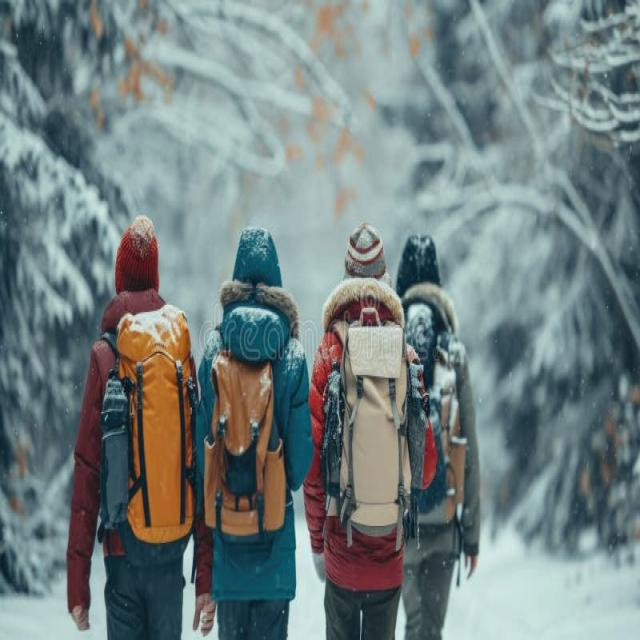backpack: (99, 305, 200, 547), (326, 309, 415, 548), (213, 296, 288, 574), (404, 295, 468, 533)
